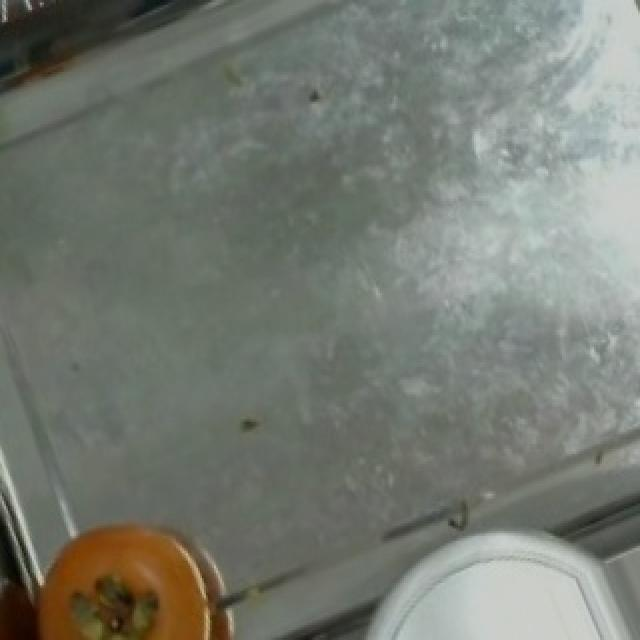Fruit: (8, 496, 230, 640), (376, 553, 628, 640)
